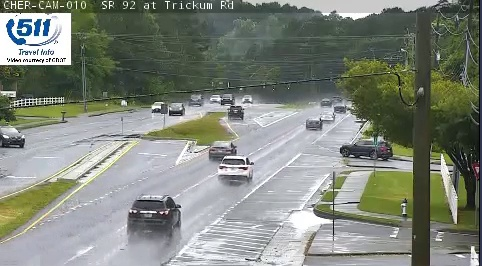car: (127, 195, 180, 227), (218, 155, 253, 179), (209, 140, 237, 157), (227, 105, 243, 118), (305, 117, 322, 129), (319, 110, 334, 122)
